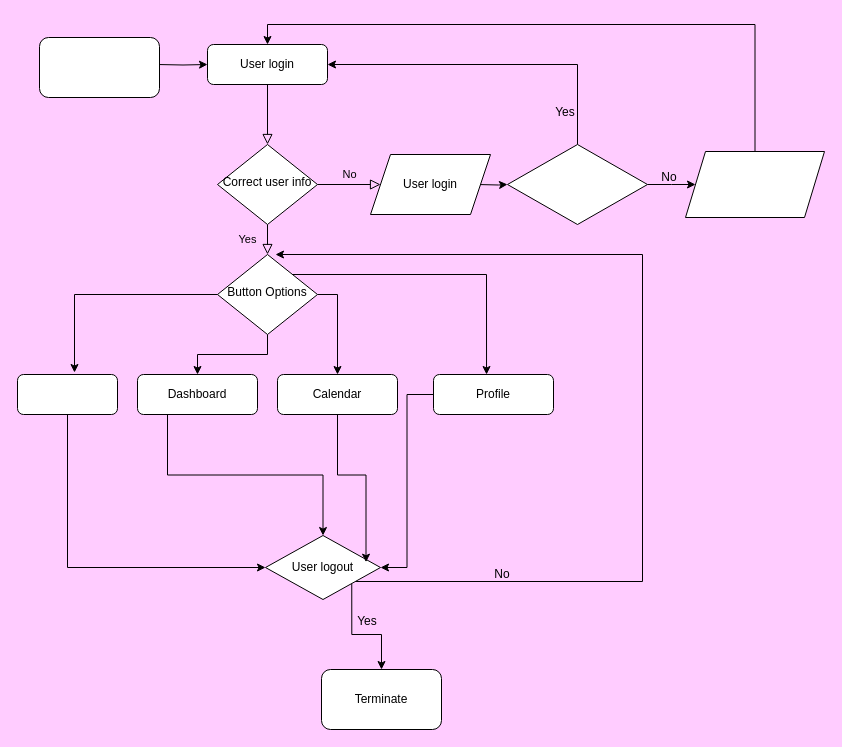
Some shapes in this 842 by 747 pixel diagram are drawn without their labels. The centre of each missing label's shape, as x and y in pixels:
"Create new account" belongs at [754,184].
"Homepage" belongs at [67,394].
"Start web application" belongs at [99,67].
"User account exists" belongs at [577,184].
